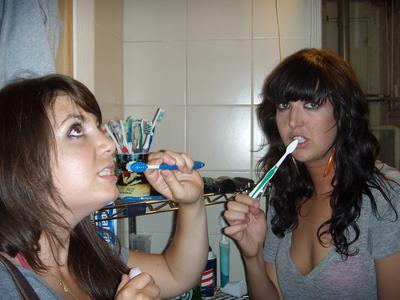person: (220, 47, 400, 300)
